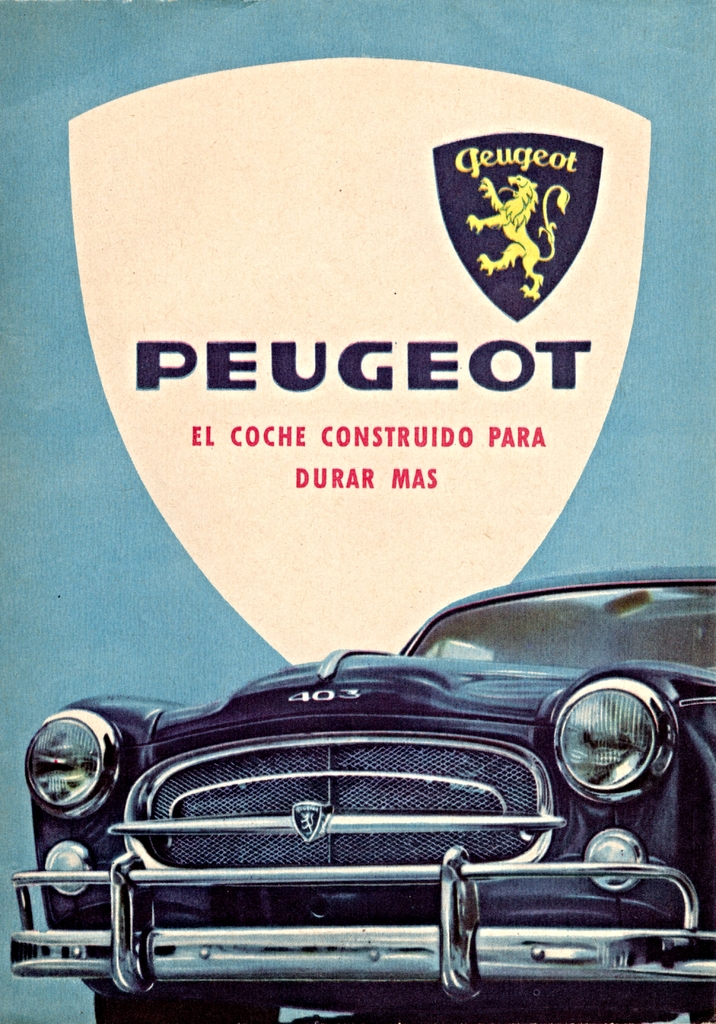cars: (0, 603, 710, 1013)
